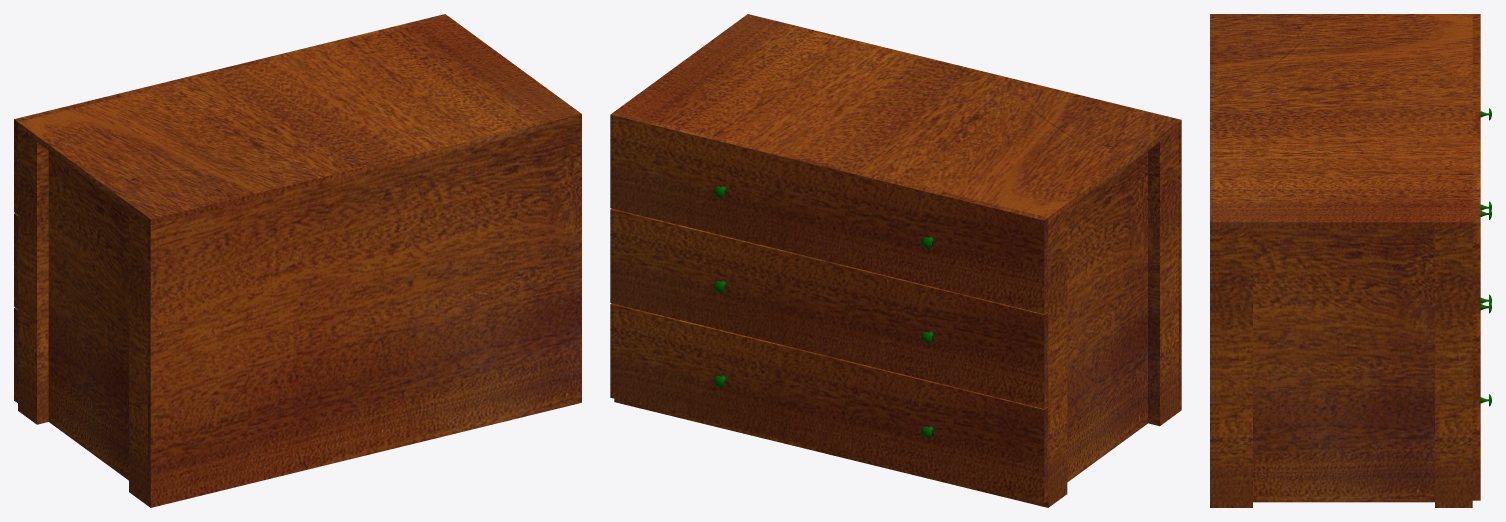
The picture shows the model from 3 angles, left to right: view 1: azimuth 30°, elevation 25°; view 2: azimuth 150°, elevation 25°; view 3: azimuth 270°, elevation 25°; orthographic projection.
Visible parts, largest first — view 1: mesh31_mesh31-geometry, mesh33_mesh33-geometry, mesh27_mesh27-geometry, mesh23_mesh23-geometry, mesh8_mesh8-geometry; view 2: mesh8_mesh8-geometry, mesh33_mesh33-geometry, mesh27_mesh27-geometry, mesh23_mesh23-geometry, mesh29_mesh29-geometry, mesh31_mesh31-geometry, mesh17_mesh17-geometry; view 3: mesh33_mesh33-geometry, mesh27_mesh27-geometry, mesh23_mesh23-geometry, mesh8_mesh8-geometry, mesh31_mesh31-geometry.
Boxes of the visible parts, left/top/right/bottom form: mesh31_mesh31-geometry: left=148, top=120, right=581, bottom=507; mesh33_mesh33-geometry: left=18, top=17, right=581, bottom=225; mesh27_mesh27-geometry: left=48, top=151, right=128, bottom=480; mesh23_mesh23-geometry: left=18, top=128, right=147, bottom=505; mesh8_mesh8-geometry: left=14, top=14, right=448, bottom=402; mesh8_mesh8-geometry: left=610, top=111, right=1048, bottom=503; mesh33_mesh33-geometry: left=615, top=14, right=1181, bottom=223; mesh27_mesh27-geometry: left=1067, top=151, right=1147, bottom=482; mesh23_mesh23-geometry: left=614, top=128, right=1178, bottom=507; mesh29_mesh29-geometry: left=642, top=405, right=1019, bottom=500; mesh31_mesh31-geometry: left=1179, top=126, right=1181, bottom=411; mesh17_mesh17-geometry: left=713, top=186, right=931, bottom=438; mesh33_mesh33-geometry: left=1210, top=14, right=1472, bottom=228; mesh27_mesh27-geometry: left=1253, top=228, right=1434, bottom=502; mesh23_mesh23-geometry: left=1215, top=228, right=1472, bottom=507; mesh8_mesh8-geometry: left=1472, top=14, right=1480, bottom=500; mesh31_mesh31-geometry: left=1210, top=228, right=1215, bottom=507.
Bounding box in the file's own units: 0.759 × 0.4855 × 0.4339.
